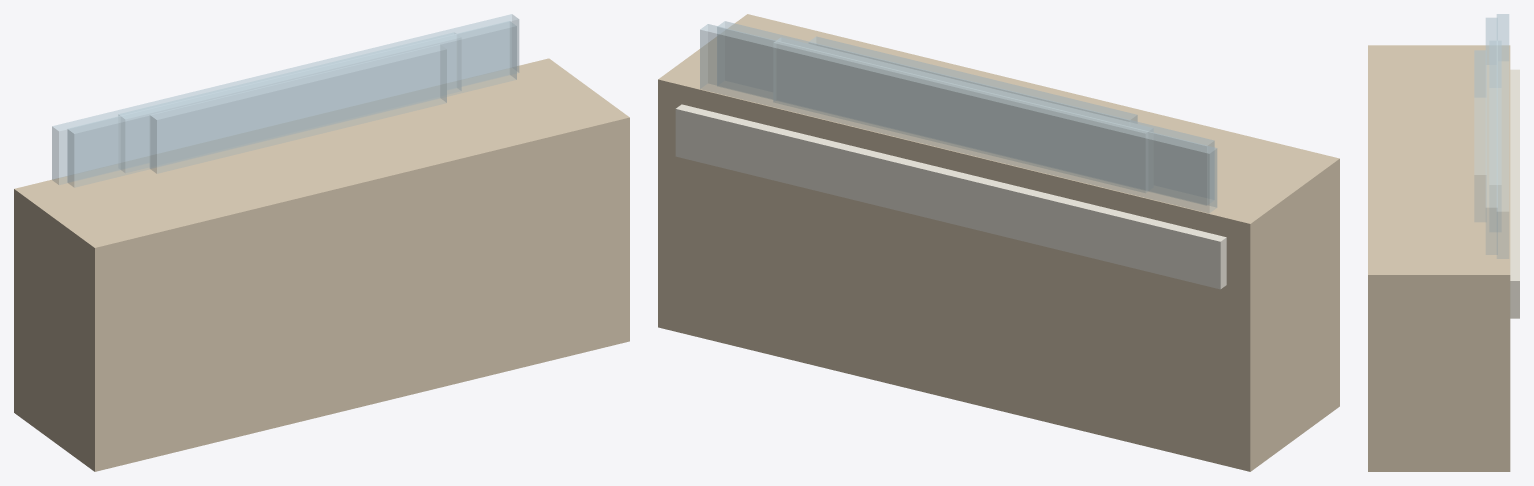
Rendered from MOD_BAKERY_COUNTER_FRONTAGE_001_LOD_CLOSE.glb.
The picture shows the model from 3 angles, left to right: view 1: azimuth 30°, elevation 25°; view 2: azimuth 150°, elevation 25°; view 3: azimuth 270°, elevation 25°; orthographic projection. The views are drawn at different scales.
Parts seen in each view (by area): view 1: MOD_BAKERY_COUNTER_FRONTAGE_001_GLASS_FRONT_PASTRY_COUNTER_C (×2), MOD_BAKERY_COUNTER_FRONTAGE_001_STRAIGHT_BAKERY_COUNTER_CLOS (×2), MOD_BAKERY_COUNTER_FRONTAGE_001_TAKEAWAY_LED_COMPACT_COUNTER (×2), MOD_BAKERY_COUNTER_FRONTAGE_001_COMPACT_CORNER_SERVICE_COUNT (×2); view 2: MOD_BAKERY_COUNTER_FRONTAGE_001_GLASS_FRONT_PASTRY_COUNTER_C (×3), MOD_BAKERY_COUNTER_FRONTAGE_001_COMPACT_CORNER_SERVICE_COUNT (×2), MOD_BAKERY_COUNTER_FRONTAGE_001_STRAIGHT_BAKERY_COUNTER_CLOS (×2), MOD_BAKERY_COUNTER_FRONTAGE_001_TAKEAWAY_LED_COMPACT_COUNTER; view 3: MOD_BAKERY_COUNTER_FRONTAGE_001_GLASS_FRONT_PASTRY_COUNTER_C (×3), MOD_BAKERY_COUNTER_FRONTAGE_001_STRAIGHT_BAKERY_COUNTER_CLOS (×2), MOD_BAKERY_COUNTER_FRONTAGE_001_TAKEAWAY_LED_COMPACT_COUNTER (×2), MOD_BAKERY_COUNTER_FRONTAGE_001_COMPACT_CORNER_SERVICE_COUNT (×2).
Boxes of the visible parts, x1,y1,x2,y2 form: MOD_BAKERY_COUNTER_FRONTAGE_001_GLASS_FRONT_PASTRY_COUNTER_C (×2): (14,14,629,471); MOD_BAKERY_COUNTER_FRONTAGE_001_STRAIGHT_BAKERY_COUNTER_CLOS (×2): (32,21,611,239); MOD_BAKERY_COUNTER_FRONTAGE_001_TAKEAWAY_LED_COMPACT_COUNTER (×2): (128,44,472,213); MOD_BAKERY_COUNTER_FRONTAGE_001_COMPACT_CORNER_SERVICE_COUNT (×2): (104,32,552,226); MOD_BAKERY_COUNTER_FRONTAGE_001_GLASS_FRONT_PASTRY_COUNTER_C (×3): (658,14,1339,471); MOD_BAKERY_COUNTER_FRONTAGE_001_COMPACT_CORNER_SERVICE_COUNT (×2): (744,37,1236,200); MOD_BAKERY_COUNTER_FRONTAGE_001_STRAIGHT_BAKERY_COUNTER_CLOS (×2): (677,21,1294,215); MOD_BAKERY_COUNTER_FRONTAGE_001_TAKEAWAY_LED_COMPACT_COUNTER: (808,36,1137,123); MOD_BAKERY_COUNTER_FRONTAGE_001_GLASS_FRONT_PASTRY_COUNTER_C (×3): (1368,14,1519,471); MOD_BAKERY_COUNTER_FRONTAGE_001_STRAIGHT_BAKERY_COUNTER_CLOS (×2): (1380,17,1497,270); MOD_BAKERY_COUNTER_FRONTAGE_001_TAKEAWAY_LED_COMPACT_COUNTER (×2): (1393,50,1486,232); MOD_BAKERY_COUNTER_FRONTAGE_001_COMPACT_CORNER_SERVICE_COUNT (×2): (1376,40,1501,243).
Bounding box in the file's own units: 2.6 × 1.29 × 0.7268.
